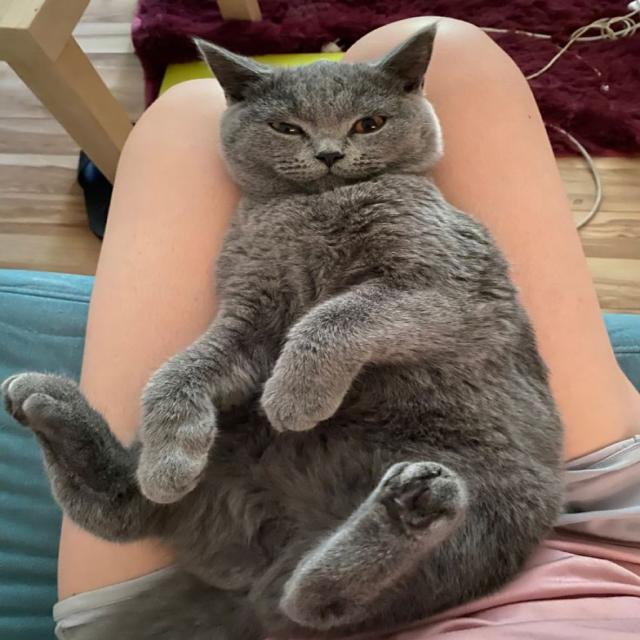british shorthair: (56, 18, 566, 628)
